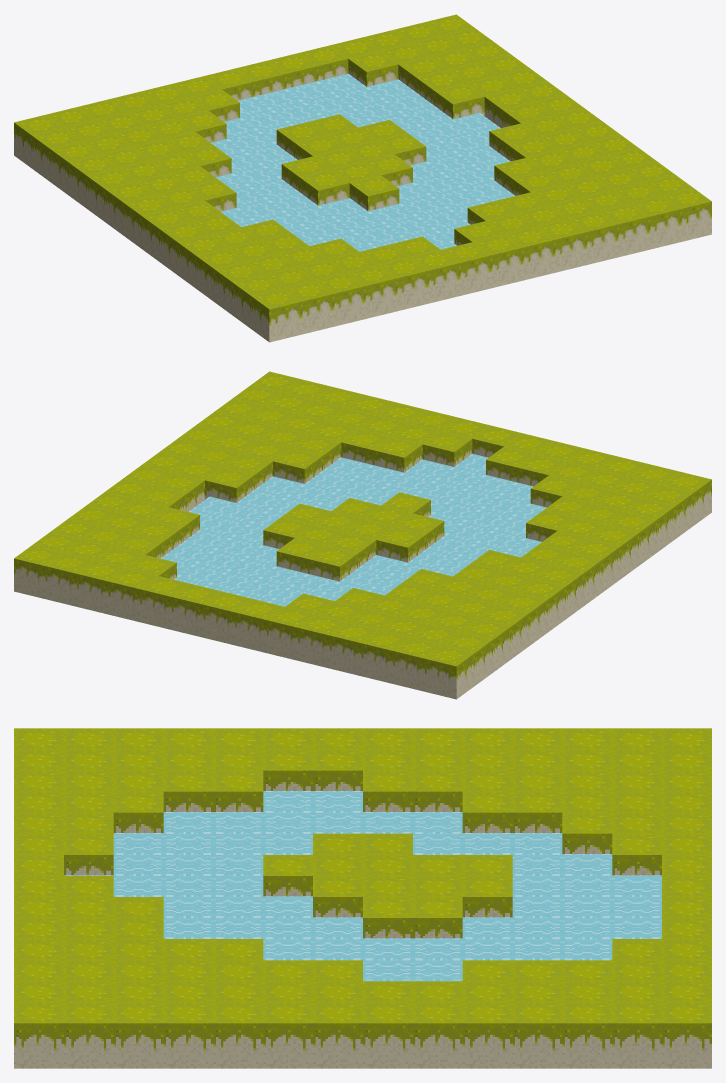
The model's file is st1_mhe4.fbx.
The picture shows the model from 3 angles, top to bottom: view 1: azimuth 30°, elevation 25°; view 2: azimuth 150°, elevation 25°; view 3: azimuth 270°, elevation 25°; orthographic projection. The views are drawn at different scales.
Visible parts, largest first — view 1: Ground_Grass_D__2__1__42__1; view 2: Ground_Grass_D__2__1__42__1; view 3: Ground_Grass_D__2__1__42__1.
Part boxes in pixels (x1,y1,x2,y2): Ground_Grass_D__2__1__42__1: (14, 14, 711, 342); Ground_Grass_D__2__1__42__1: (14, 371, 711, 699); Ground_Grass_D__2__1__42__1: (14, 728, 711, 1068).
Size of the model in its own units: 8400 by 600 by 8400.
2 materials, 2 textured.
